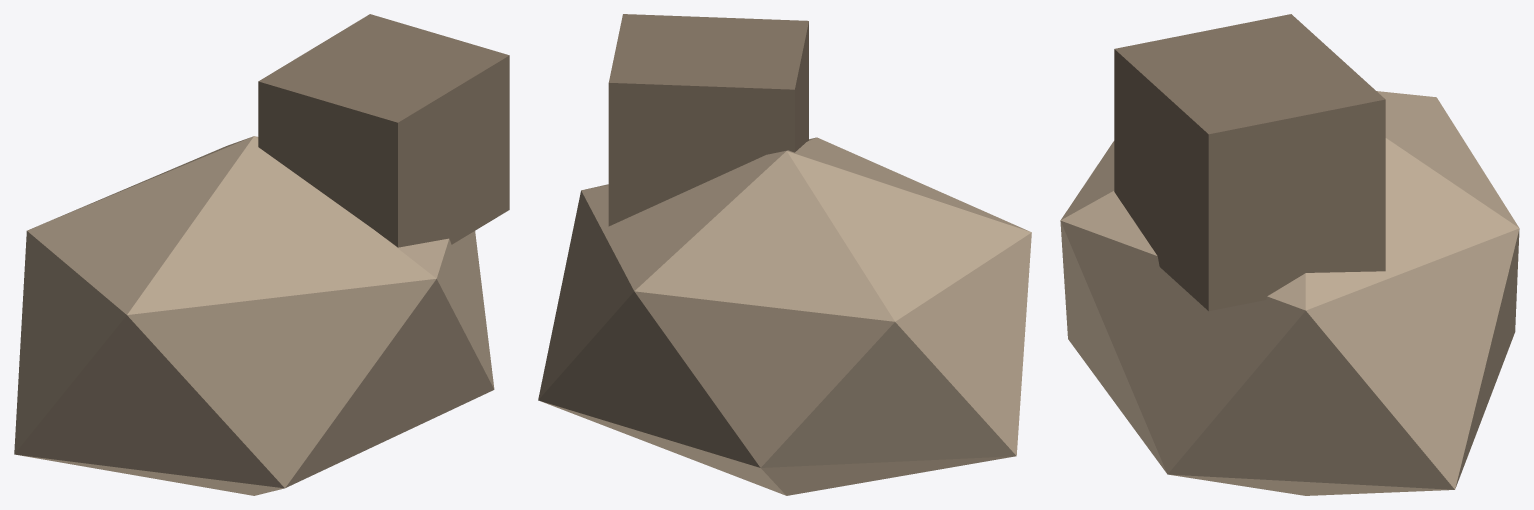
Rendered from debris-1.glb.
3 renders of one model, left to right at view 1: azimuth 30°, elevation 25°; view 2: azimuth 150°, elevation 25°; view 3: azimuth 270°, elevation 25°, orthographic. The views are drawn at different scales.
Visible parts, largest first — view 1: debris-1; view 2: debris-1; view 3: debris-1.
Boxes of the visible parts, x1=… form: debris-1: x1=14, y1=14, x2=509, y2=495; debris-1: x1=538, y1=14, x2=1031, y2=495; debris-1: x1=1060, y1=14, x2=1519, y2=495.
Bounding box in the file's own units: 0.4309 × 0.3803 × 0.3291.
